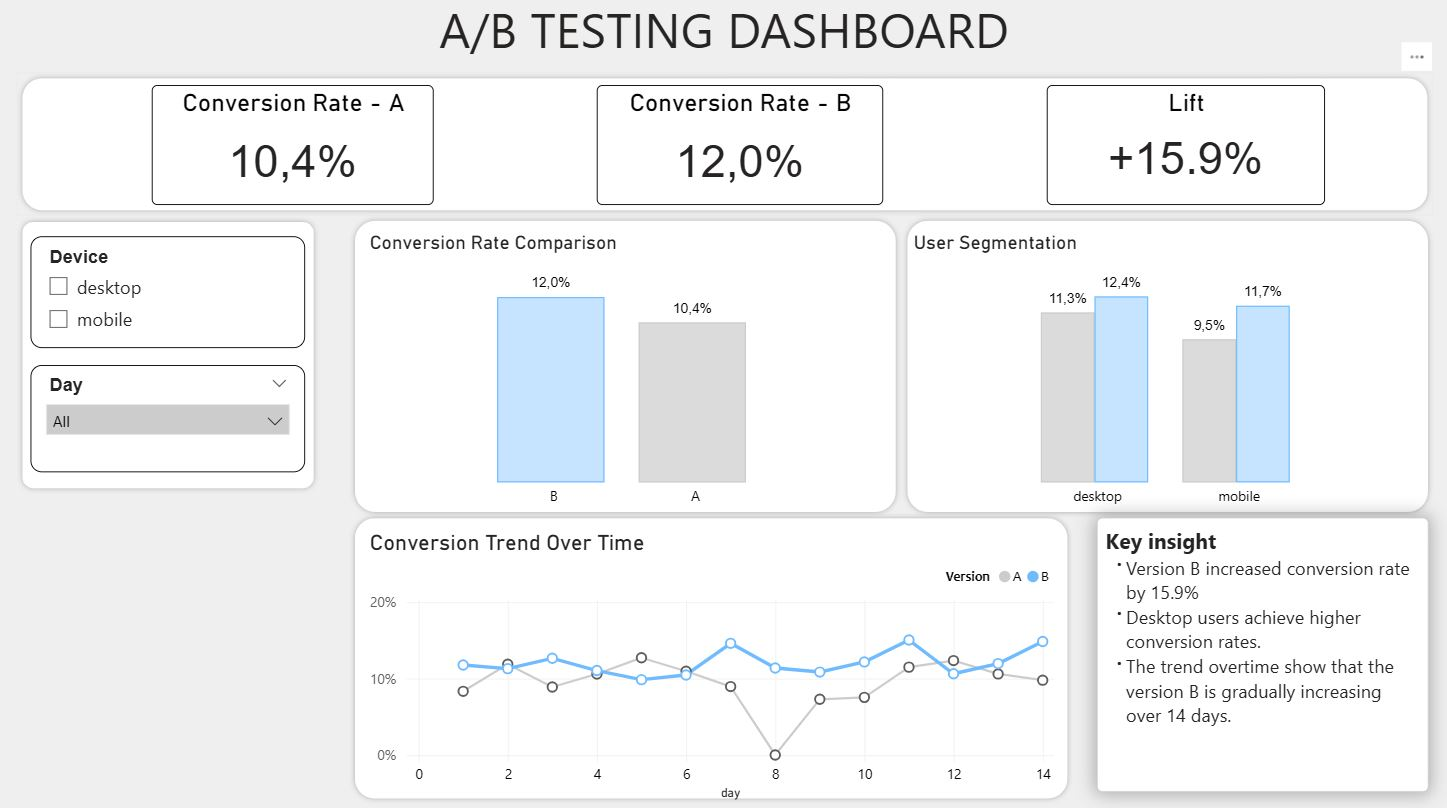

Layout of this report page (visuals, bound fields, positions):
{"tool":"powerbi","page":{"name":"Page 1","canvas":[1280,720],"ordinal":0},"visuals":[{"type":"shape","box":[16.5,72.4,1246,126.2],"z":0},{"type":"card","title":"Conversion Rate - A","fields":{"Values":["Sum(summary (2).conversion_rate)"]},"box":[135.6,83.5,228.8,105.3],"z":1000},{"type":"card","title":"Conversion Rate - B","fields":{"Values":["Sum(summary (2).conversion_rate)"]},"box":[529,83.5,227.6,105.3],"z":2000},{"type":"card","title":"Lift","fields":{"Values":["All Measure.Lift"]},"box":[922.4,83.5,223.9,105.3],"z":3000},{"type":"textbox","box":[332.1,0,613.4,75.5],"z":4000},{"type":"shape","box":[16.5,199,266.2,244.3],"z":5000},{"type":"shape","box":[308.7,197.6,485.8,266.2],"z":6000},{"type":"shape","box":[794.5,197.6,467.9,266.2],"z":7000},{"type":"shape","box":[308.7,459.7,636.7,256.6],"z":8000},{"type":"columnChart","title":"Conversion Rate Comparison","fields":{"Y":["Sum(summary (2).conversion_rate)"],"Category":["summary (2).groups"]},"box":[322.5,212.7,458.3,251.1],"z":9000},{"type":"clusteredColumnChart","title":"User Segmentation","fields":{"Y":["Sum(device_segmentation.conversion_rate)"],"Category":["device_segmentation.device"],"Series":["device_segmentation.groups"]},"box":[800,212.7,458.3,251.1],"z":10000},{"type":"lineChart","title":"Conversion Trend Over Time","fields":{"Category":["daily_trend.day"],"Y":["Sum(daily_trend.conversion_rate)"],"Series":["daily_trend.groups"]},"box":[322.5,474.8,612,242.9],"z":11000},{"type":"slicer","fields":{"Values":["device_segmentation.device"]},"box":[28.8,216.8,241.5,98.8],"z":12000},{"type":"slicer","fields":{"Values":["daily_trend.day"]},"box":[28.8,329.3,241.5,94.7],"z":13000},{"type":"textbox","box":[966,463.8,292.3,241.5],"z":14000}]}

Visuals, with their boxes in screenshot pixels (x1, y1, x2, y2), scaled from the page's 1280x720 canvas onto the 1447x808 screenshot:
shape: locate(19, 81, 1427, 223)
"Conversion Rate - A" card: locate(153, 94, 412, 212)
"Conversion Rate - B" card: locate(598, 94, 855, 212)
"Lift" card: locate(1043, 94, 1296, 212)
textbox: locate(375, 0, 1069, 85)
shape: locate(19, 223, 320, 497)
shape: locate(349, 222, 898, 520)
shape: locate(898, 222, 1427, 520)
shape: locate(349, 516, 1069, 804)
"Conversion Rate Comparison" columnChart: locate(365, 239, 883, 520)
"User Segmentation" clusteredColumnChart: locate(904, 239, 1422, 520)
"Conversion Trend Over Time" lineChart: locate(365, 533, 1056, 805)
slicer - device_segmentation.device: locate(33, 243, 306, 354)
slicer - daily_trend.day: locate(33, 370, 306, 476)
textbox: locate(1092, 520, 1422, 792)
